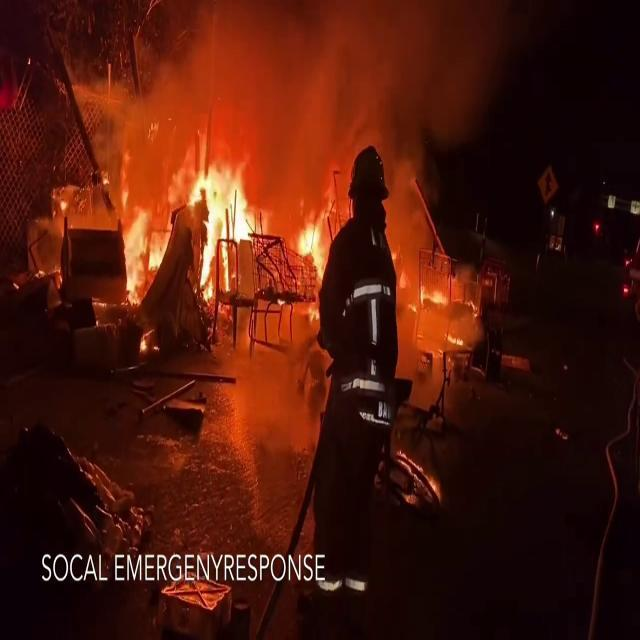Fire: (118, 140, 258, 306), (296, 166, 348, 305)
Smoke: (120, 0, 502, 152)
